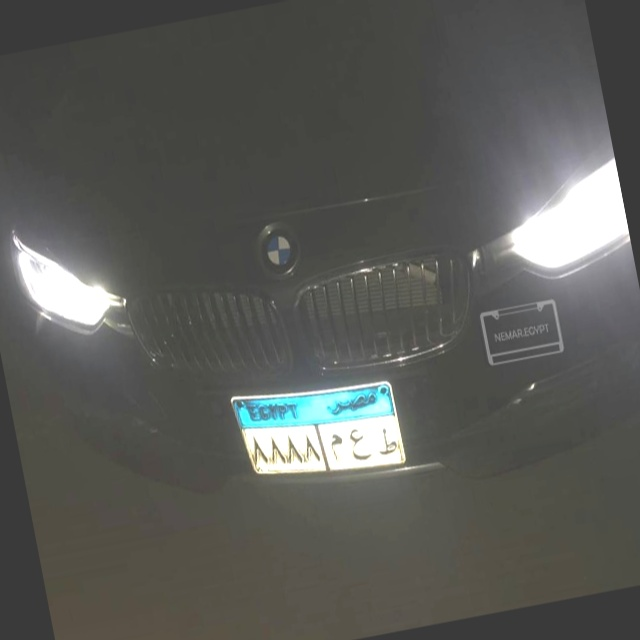License Plate: (223, 360, 413, 503)
